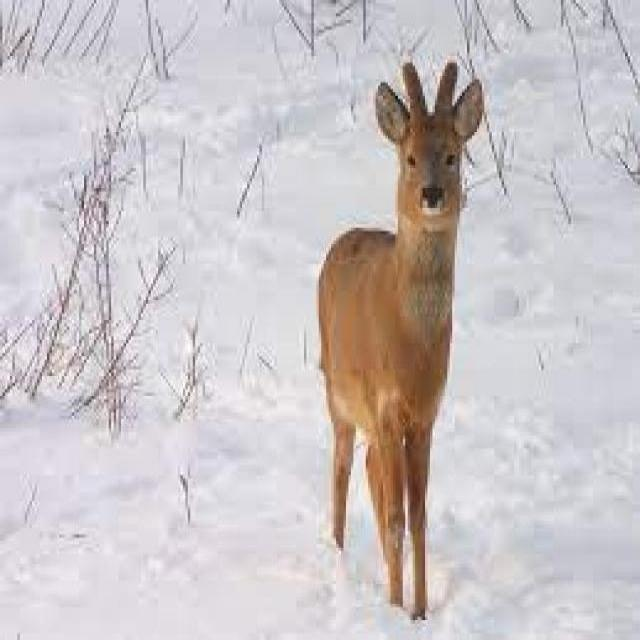deer: (311, 46, 483, 638)
